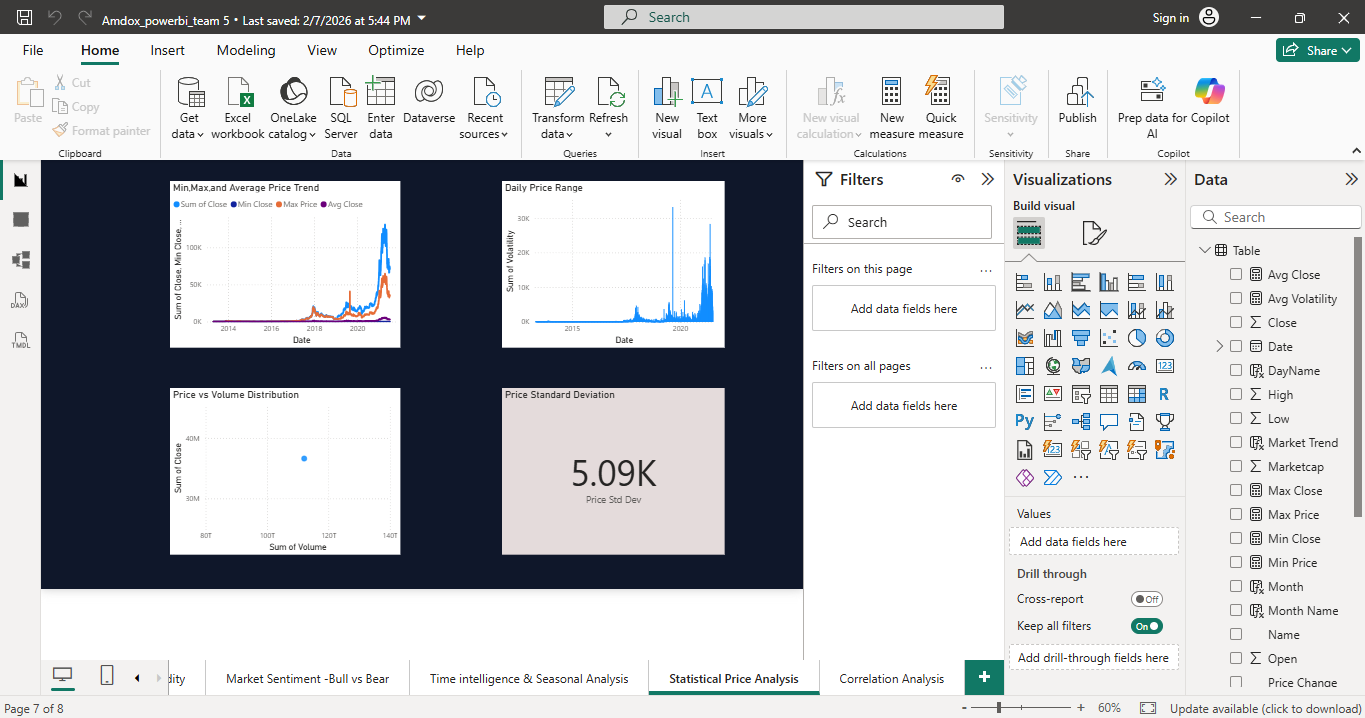

The page's visual inventory and layout, read from the dashboard file:
{"tool":"powerbi","page":{"name":"Statistical Price Analysis","canvas":[1280,720],"ordinal":6},"visuals":[{"type":"lineChart","title":"Min,Max,and Average Price Trend","fields":{"Category":["Table.Date"],"Y":["Sum(Table.Close)","Table.Min Close","Table.Max Price","Table.Avg Close"]},"box":[217.3,35.9,387.4,279.7],"z":0},{"type":"columnChart","title":" Daily Price Range","fields":{"Category":["Table.Date"],"Y":["Sum(Table.Volatility)"]},"box":[774.8,35.9,374.2,279.7],"z":1},{"type":"scatterChart","title":"Price vs Volume Distribution","fields":{"X":["Sum(Table.Volume)"],"Y":["Sum(Table.Close)"]},"box":[217.3,383.6,387.4,279.7],"z":2},{"type":"card","title":"Price Standard Deviation","fields":{"Values":["Table.Price Std Dev"]},"box":[774.8,383.6,374.2,279.7],"z":3}]}

Visuals, with their boxes on the page's 1280x720 design canvas (x1, y1, x2, y2). These are canvas units, not pixel positions in the 1365x718 screenshot, which may show the page scaled, cropped or inside an application window:
"Min,Max,and Average Price Trend" lineChart: detection(217, 36, 605, 316)
" Daily Price Range" columnChart: detection(775, 36, 1149, 316)
"Price vs Volume Distribution" scatterChart: detection(217, 384, 605, 663)
"Price Standard Deviation" card: detection(775, 384, 1149, 663)
